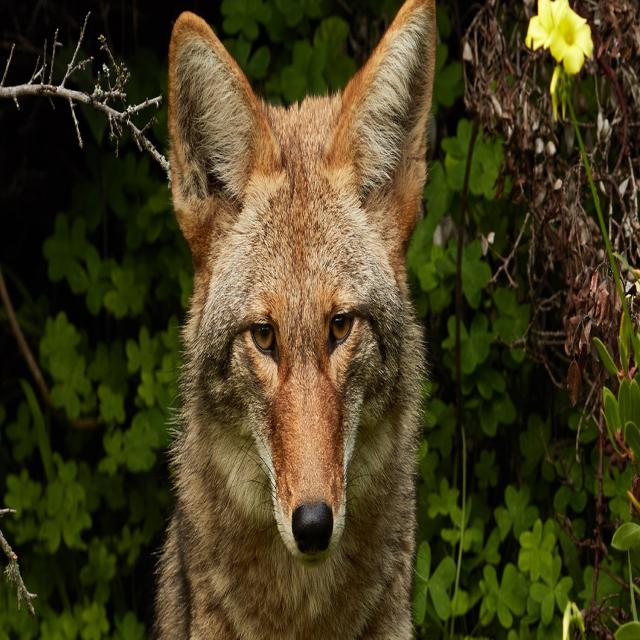Coyote: (160, 4, 436, 640)
